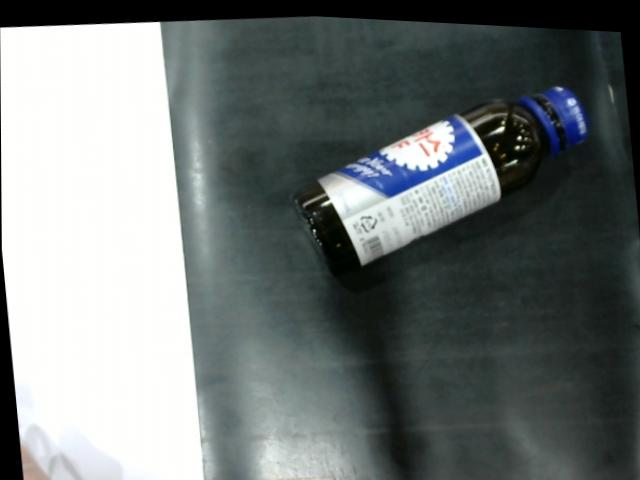glass: (283, 68, 601, 283)
